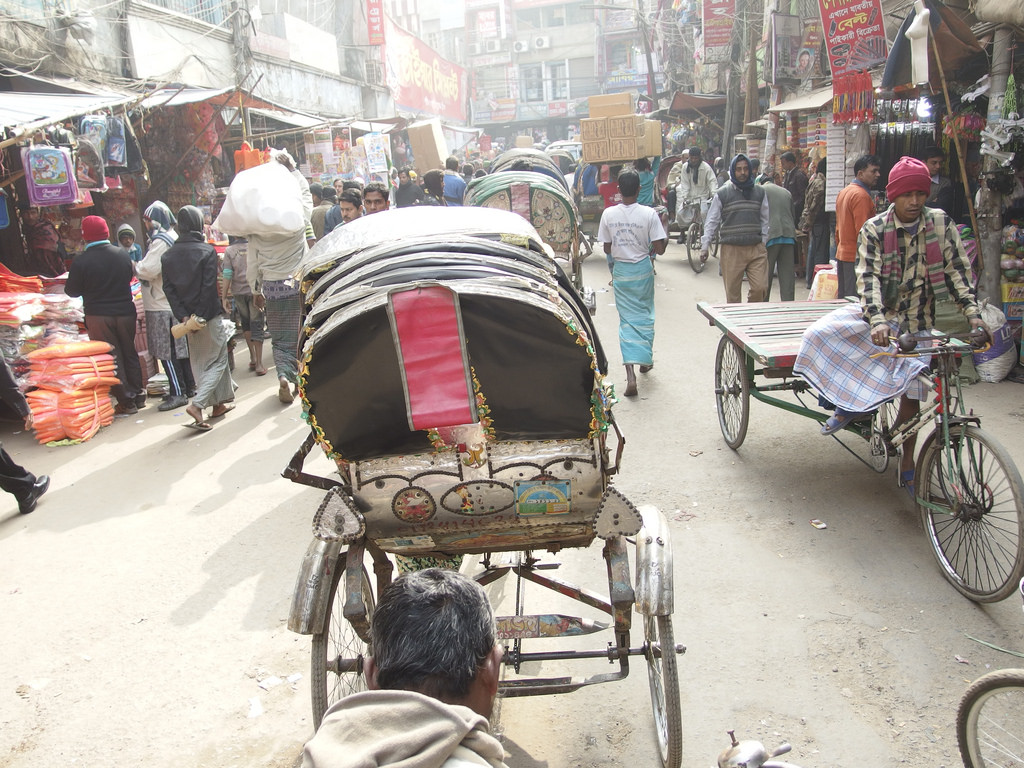Rickshaw: (284, 193, 698, 766), (468, 167, 589, 326), (653, 149, 734, 287)
